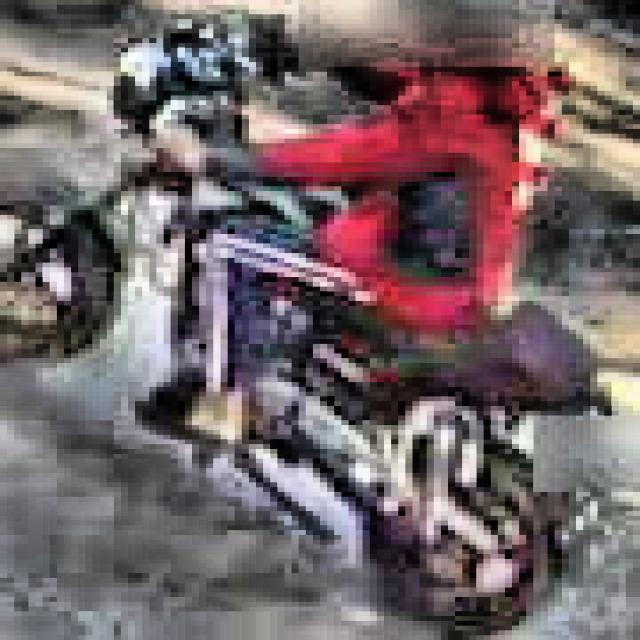motorcycle: (0, 19, 629, 640)
